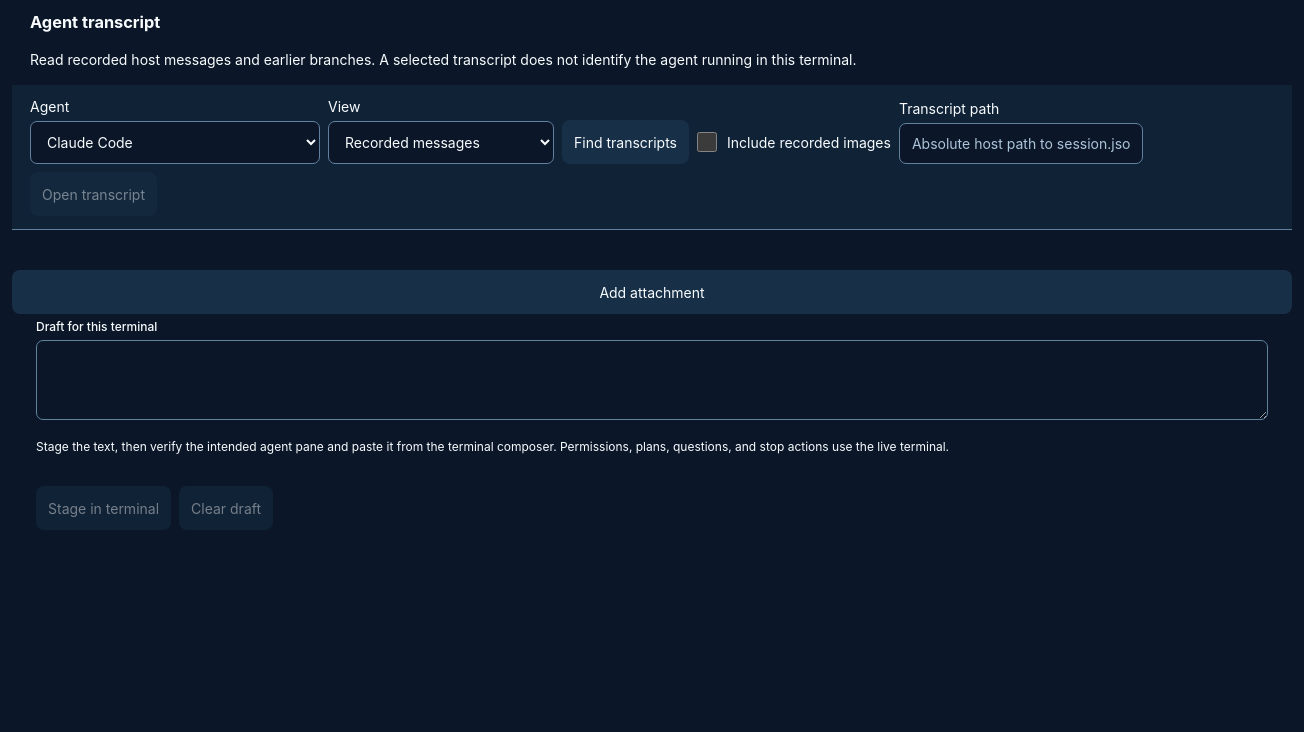
Test: keeps an explicitly requested manual read when visibility changes
Type "/host/claude.jsonl" into the field labelled "Transcript path". click: (1021,144)
box: [899, 124, 1143, 164]
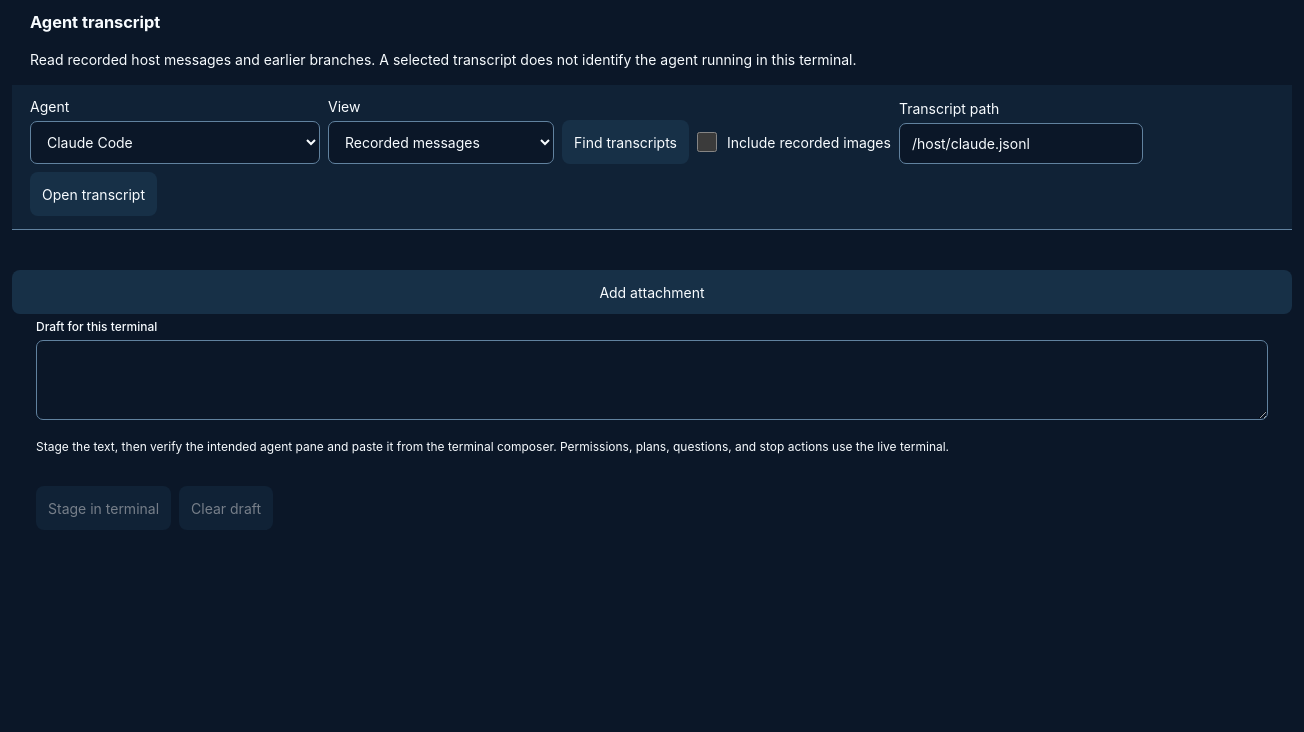
Select "Latest conversation branch" in the dropdown labelled "View". click: (441,143)
box: [328, 122, 554, 164]
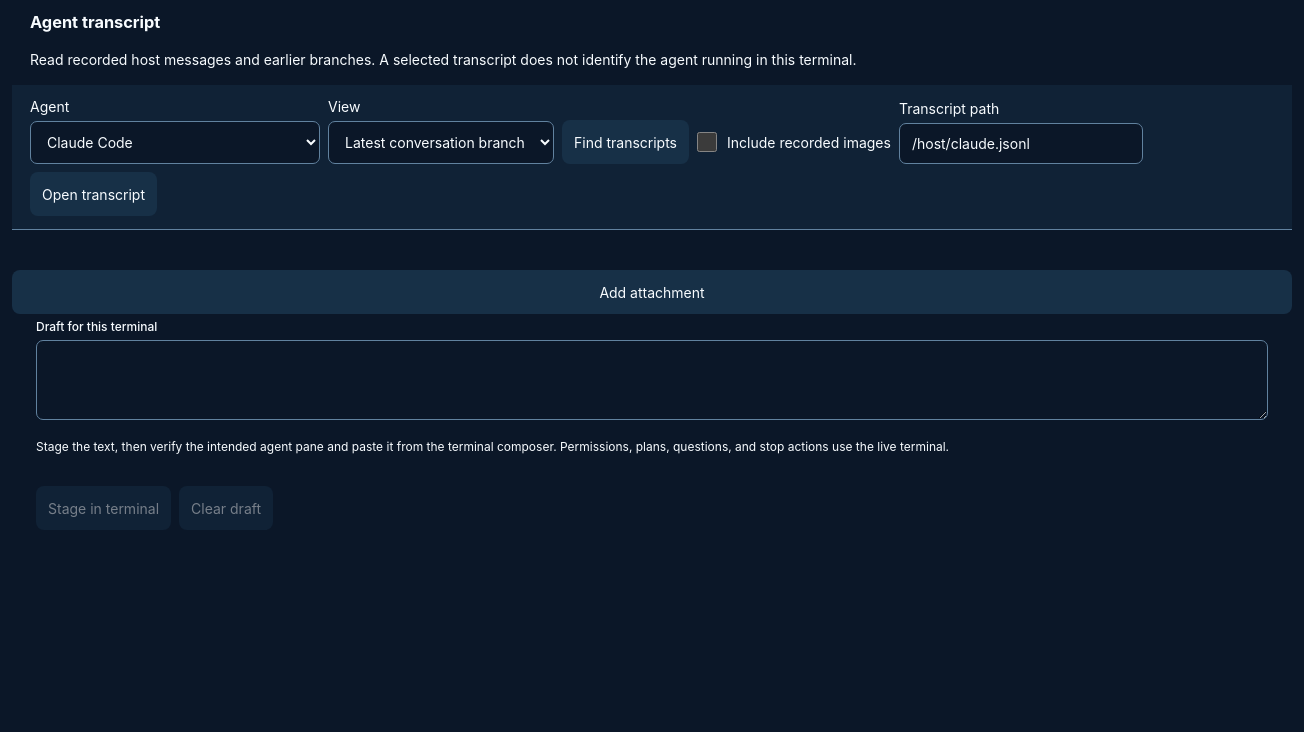
Click the button "Open transcript". click: (94,194)
box: [30, 172, 157, 216]
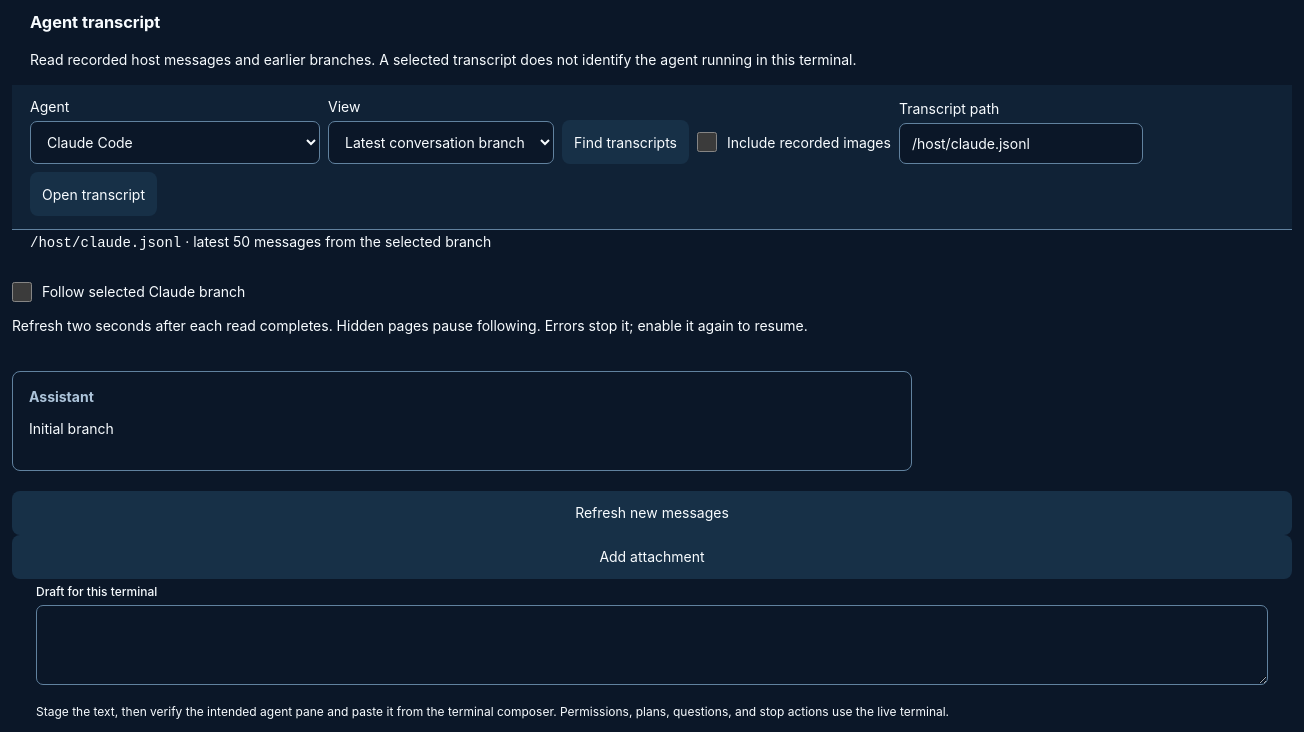
Click the button "Refresh new messages". click: (652,513)
box: [12, 491, 1292, 535]
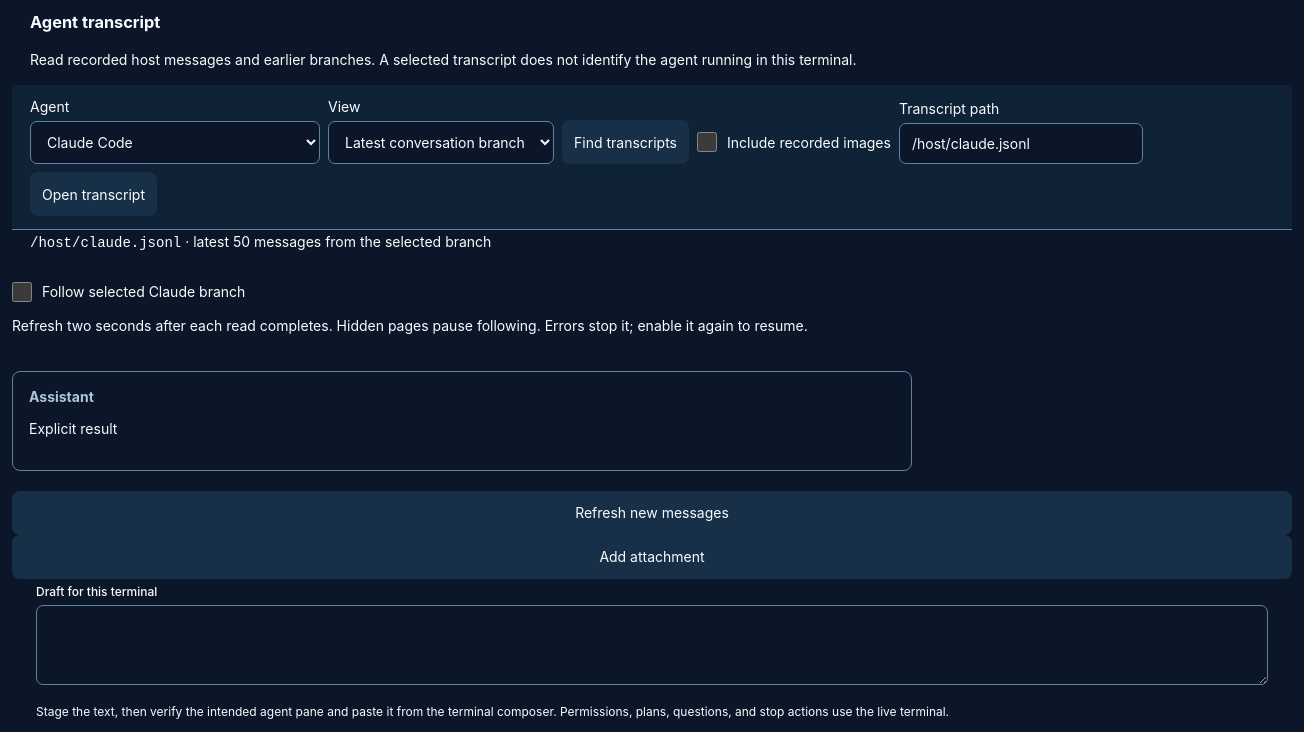
expect the checkbox labelled "Follow selected Claude branch" is not checked: met, box [12, 282, 32, 302]
expect the text "Explicit result" is shown: met, box [29, 420, 117, 437]
